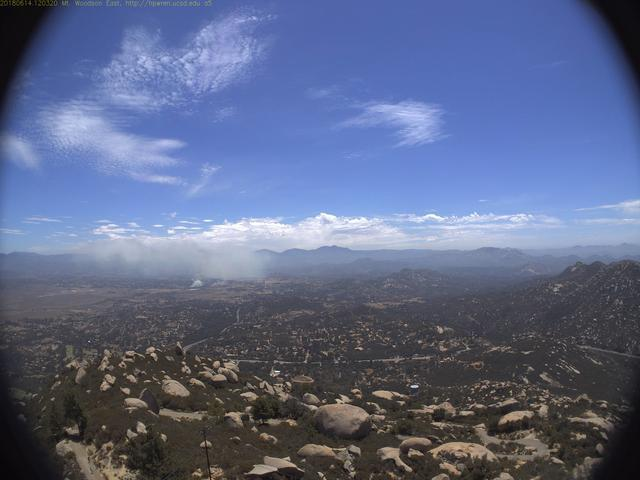Smoke: (75, 229, 263, 290)
